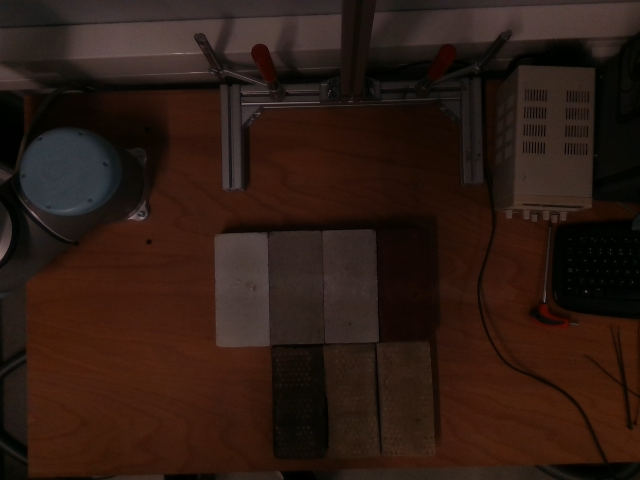brick: (215, 234, 271, 347), (323, 232, 378, 345), (379, 346, 434, 459), (270, 234, 325, 346), (325, 348, 380, 460)
